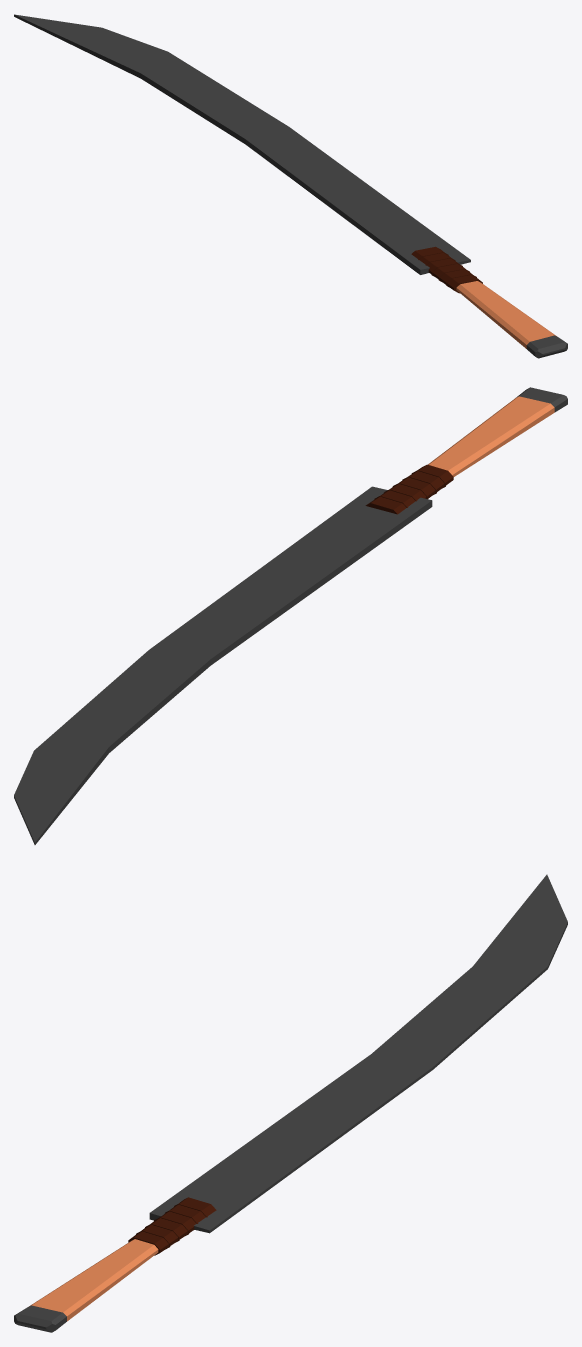
3 views of the same model, one above another, from view 1: azimuth 30°, elevation 25°; view 2: azimuth 150°, elevation 25°; view 3: azimuth 330°, elevation 25° (orthographic). The views are drawn at different scales.
Visible parts, largest first — view 1: 26; view 2: 26; view 3: 26.
Boxes of the visible parts, box(x1,y1,x2,y2) form: 26: box(14, 14, 567, 358); 26: box(14, 387, 567, 844); 26: box(14, 874, 567, 1332).
Bounding box in the file's own units: 10.04 × 1.21 × 91.42.
